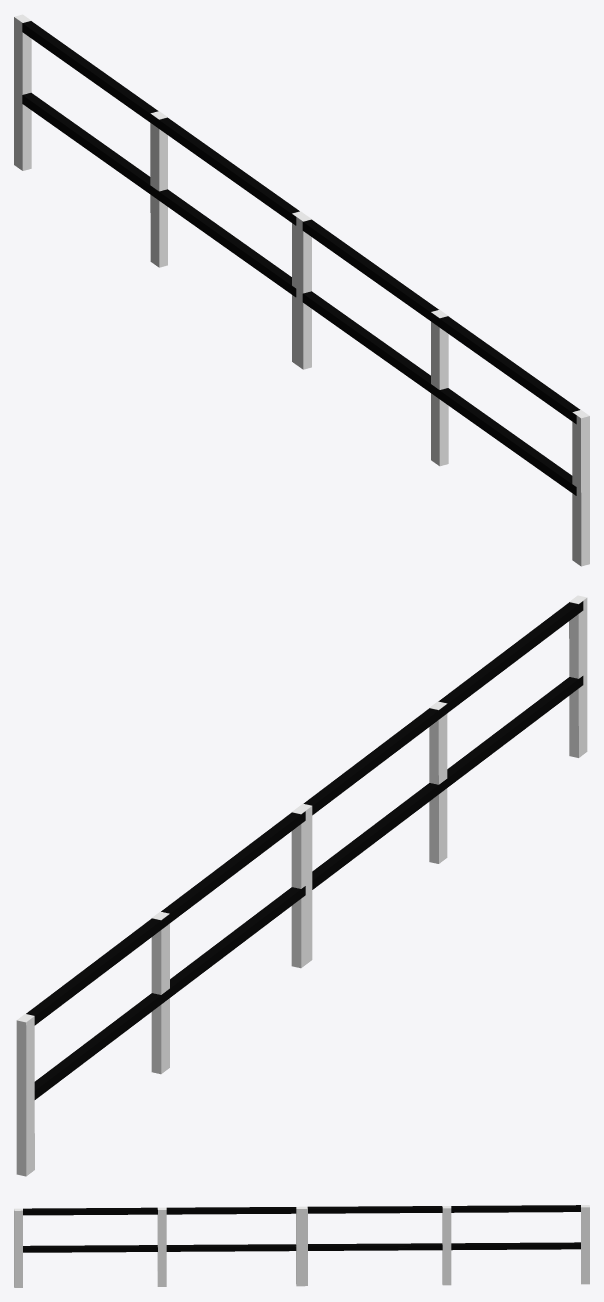
Rendered from railing.obj.
The picture shows the model from 3 angles, top to bottom: view 1: azimuth 30°, elevation 25°; view 2: azimuth 150°, elevation 25°; view 3: azimuth 270°, elevation 25°; orthographic projection. The views are drawn at different scales.
Visible parts, largest first — view 1: Cube.001_Cube.001; view 2: Cube.001_Cube.001; view 3: Cube.001_Cube.001.
Boxes of the visible parts, bbox=[...] form: Cube.001_Cube.001: bbox=[14, 14, 589, 566]; Cube.001_Cube.001: bbox=[16, 595, 587, 1176]; Cube.001_Cube.001: bbox=[14, 1205, 589, 1287].
Bounding box in the file's own units: 0.3723 × 2.29 × 15.5.
